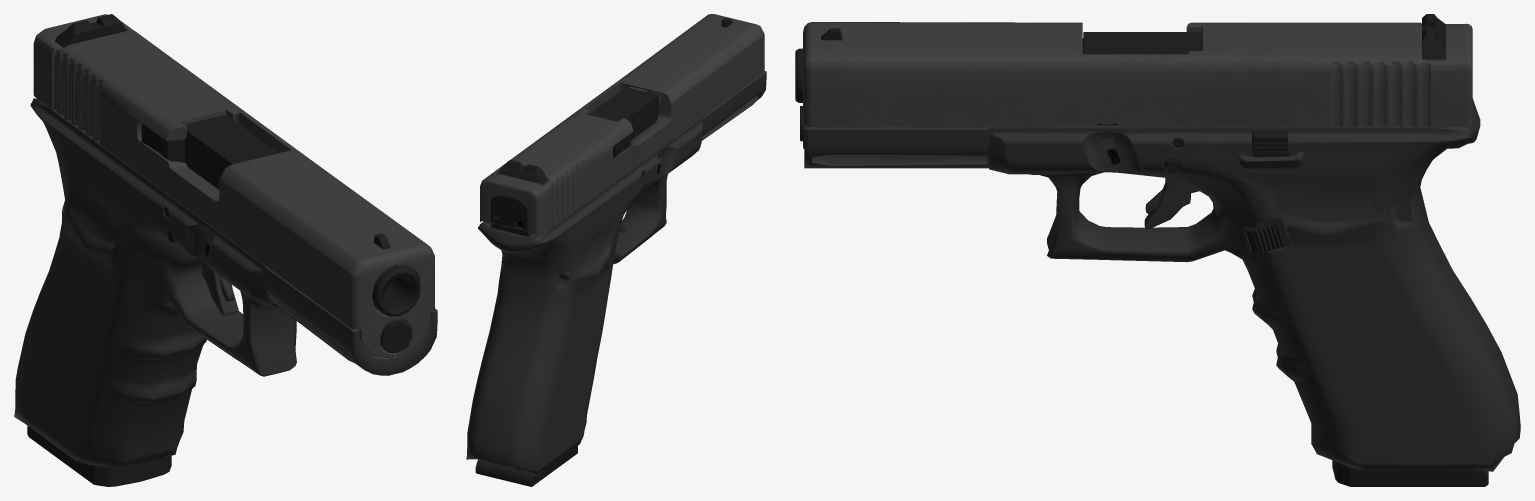
The model's file is Pistol10mm.fbx.
3 views of the same model, side by side, from view 1: azimuth 30°, elevation 25°; view 2: azimuth 150°, elevation 25°; view 3: azimuth 270°, elevation 25° (orthographic). The views are drawn at different scales.
Visible parts, largest first — view 1: Handle, Slide, InnerPart, Magazine, Trigger; view 2: Handle, Slide, InnerPart, Magazine; view 3: Handle, Slide, InnerPart, Magazine, Trigger.
Boxes of the visible parts, x1,y1,x2,y2 form: Handle: (14,98,437,467); Slide: (33,14,434,357); InnerPart: (184,115,420,316); Magazine: (27,426,171,486); Trigger: (197,258,238,315); Handle: (466,71,766,476); Slide: (480,14,764,236); InnerPart: (589,87,658,139); Magazine: (475,446,577,486); Handle: (800,98,1520,471); Slide: (803,14,1472,148); InnerPart: (795,32,1201,102); Magazine: (1332,460,1488,486); Trigger: (1144,178,1198,229).
Size of the model in its own units: 3.81 by 13.87 by 20.55.
